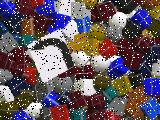Left: (28, 29, 76, 84)
